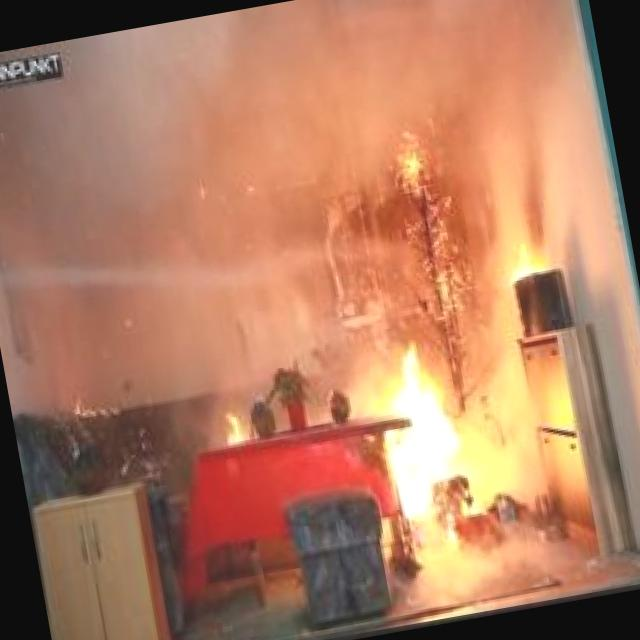fire: (328, 306, 534, 557)
